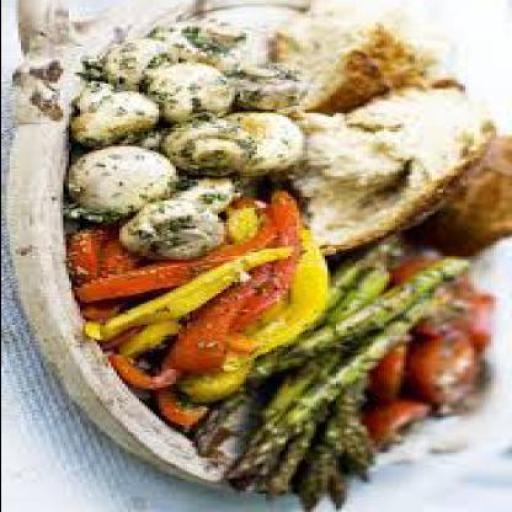biodegradable: (188, 262, 473, 458), (225, 300, 427, 494), (268, 299, 447, 501), (296, 80, 498, 256), (287, 2, 459, 115), (73, 217, 281, 297), (228, 226, 332, 360), (405, 139, 511, 263), (81, 267, 254, 341), (298, 373, 380, 511), (67, 144, 183, 226), (253, 191, 307, 327), (118, 202, 230, 262), (395, 262, 478, 336), (73, 83, 163, 148), (146, 63, 236, 124), (152, 18, 250, 74), (163, 121, 259, 176), (411, 334, 481, 408), (228, 112, 302, 180), (98, 36, 186, 92), (328, 236, 402, 291), (231, 68, 314, 115), (329, 269, 393, 328), (180, 360, 259, 406), (374, 400, 431, 454), (442, 361, 496, 417), (79, 303, 138, 354), (171, 176, 245, 215), (112, 356, 182, 391), (371, 345, 408, 408), (157, 389, 211, 429), (124, 321, 182, 358), (70, 228, 110, 278), (469, 292, 498, 354), (98, 240, 140, 276), (273, 36, 315, 70), (245, 199, 276, 221)
